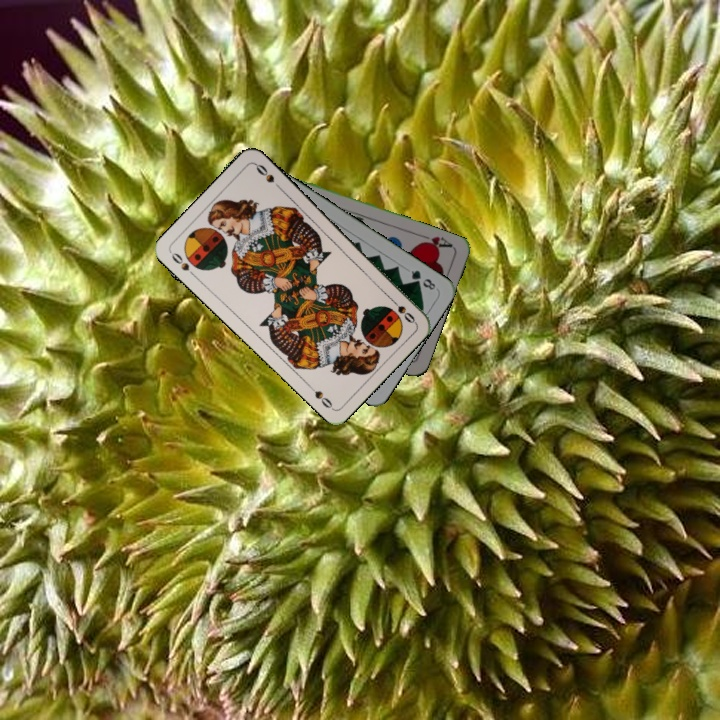G8: (407, 266, 438, 293)
HA: (416, 230, 455, 252)
SO: (385, 293, 418, 326), (167, 249, 199, 280)
